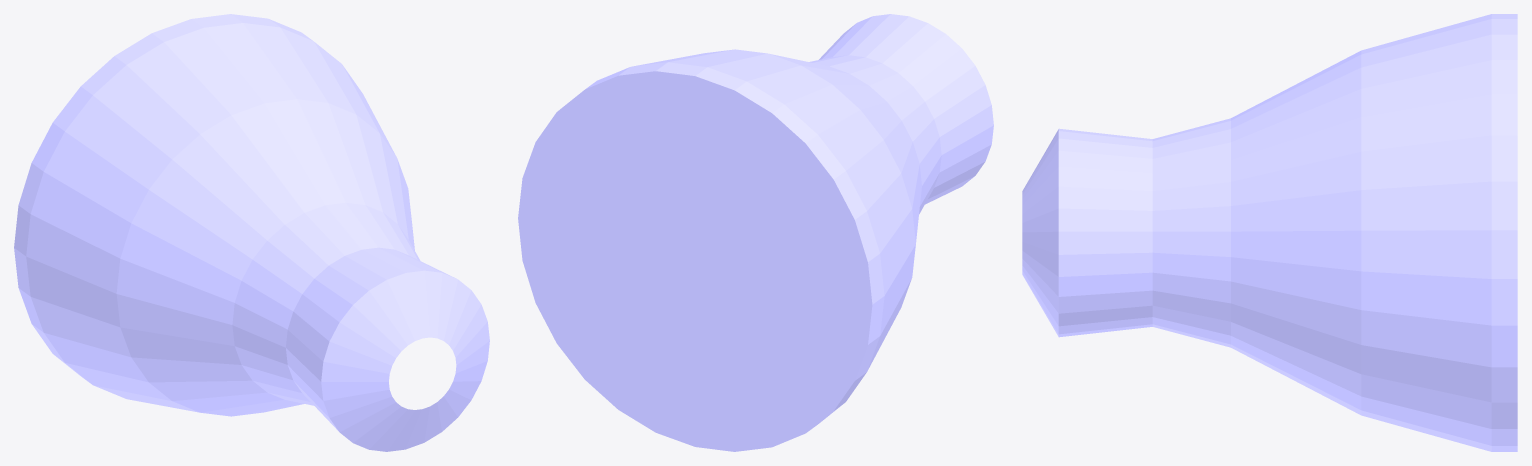
Rendered from mesh_dress_lux.glb.
3 views of the same model, side by side, from view 1: azimuth 30°, elevation 25°; view 2: azimuth 150°, elevation 25°; view 3: azimuth 270°, elevation 25° (orthographic). The views are drawn at different scales.
Size of the model in its own units: 0.504 by 0.504 by 0.57.
